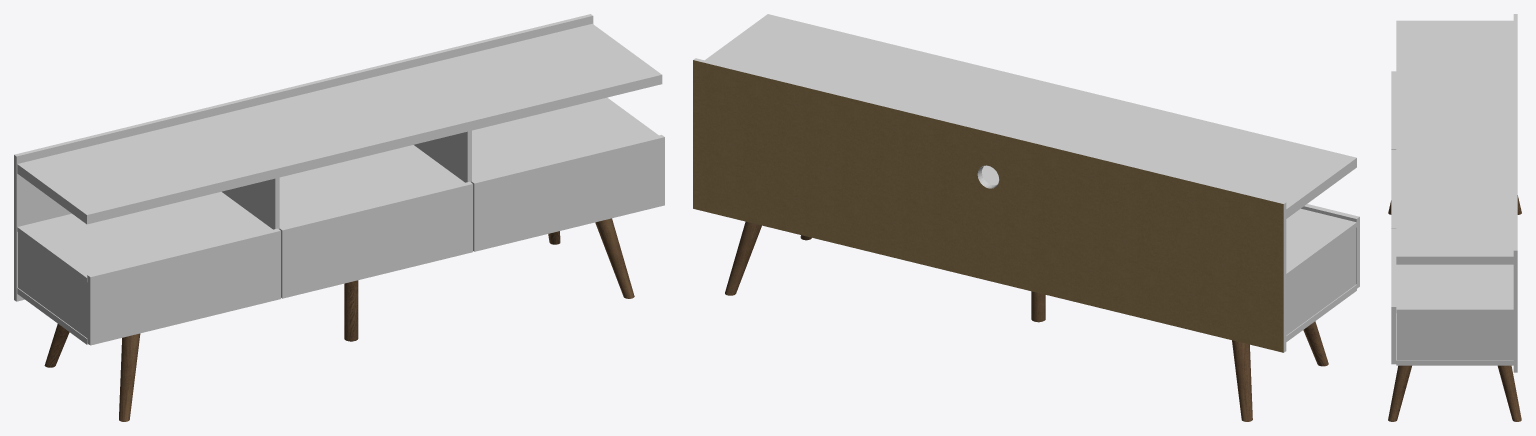
The model's file is 6002-Branco.gltf.
3 renders of one model, left to right at view 1: azimuth 30°, elevation 25°; view 2: azimuth 150°, elevation 25°; view 3: azimuth 270°, elevation 25°, orthographic. The views are drawn at different scales.
Parts seen in each view (by area): view 1: Box001, Box002, Box008, 1, Box009, Box013, Box015, Box007, Box006, Cylinder002, Cylinder006, Cylinder004; view 2: Box013, Box001, Box015, Box002, Cylinder005, Cylinder007, Box008; view 3: Box001, Box002, Box014, Box013, 1, Box011, Cylinder007, Cylinder006, Box008, Box009.
Boxes of the visible parts, box(x1,y1,x2,y2) form: Box001: box(17, 23, 662, 224); Box002: box(17, 97, 658, 282); Box008: box(87, 228, 280, 345); 1: box(471, 135, 664, 251); Box009: box(279, 181, 472, 298); Box013: box(14, 14, 593, 301); Box015: box(18, 232, 87, 337); Box007: box(222, 177, 279, 229); Box006: box(414, 130, 471, 182); Cylinder002: box(119, 333, 140, 421); Cylinder006: box(595, 218, 634, 298); Cylinder004: box(344, 280, 358, 341); Box013: box(693, 58, 1286, 352); Box001: box(705, 14, 1356, 218); Box015: box(1286, 228, 1355, 335); Box002: box(982, 166, 1356, 278); Cylinder005: box(1232, 340, 1252, 421); Cylinder007: box(725, 221, 761, 295); Box008: box(1301, 204, 1359, 288); Box001: box(1396, 20, 1513, 264); Box002: box(1396, 264, 1513, 313); Box014: box(1397, 313, 1513, 360); Box013: box(1513, 14, 1517, 372); 1: box(1391, 228, 1396, 364); Box011: box(1396, 265, 1513, 365); Cylinder007: box(1497, 365, 1521, 421); Cylinder006: box(1388, 365, 1411, 421); Box008: box(1391, 71, 1396, 149); Box009: box(1391, 150, 1396, 228).
Size of the model in its own units: 1.61 by 0.5833 by 0.3839.
5 materials, 2 textured.
